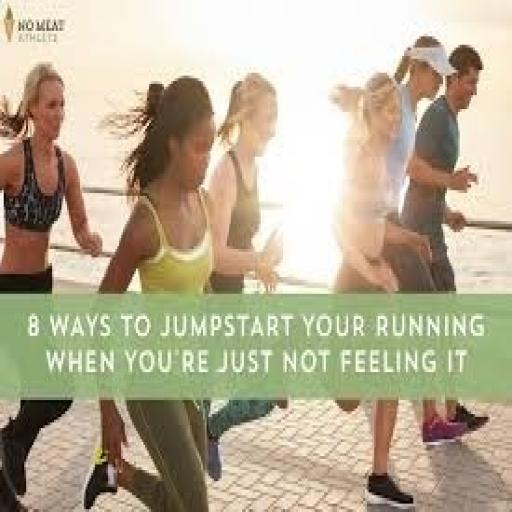running: (82, 73, 220, 509), (0, 59, 106, 509), (398, 39, 492, 448), (203, 67, 290, 484)
